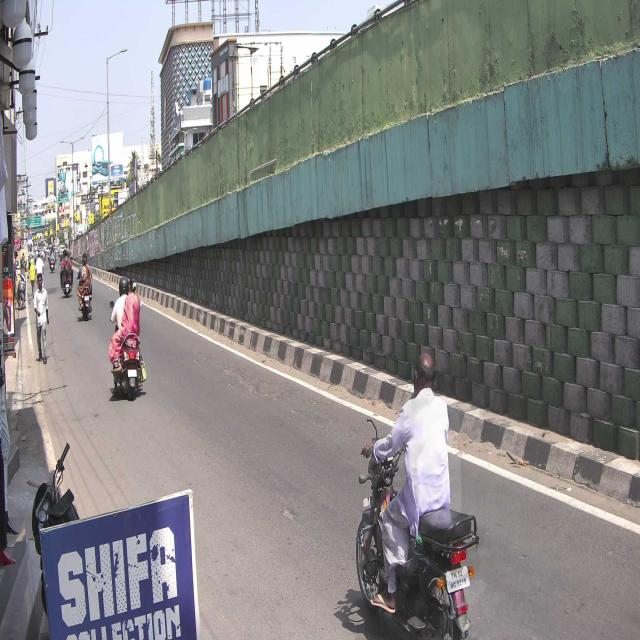single_rider: (354, 346, 484, 640)
